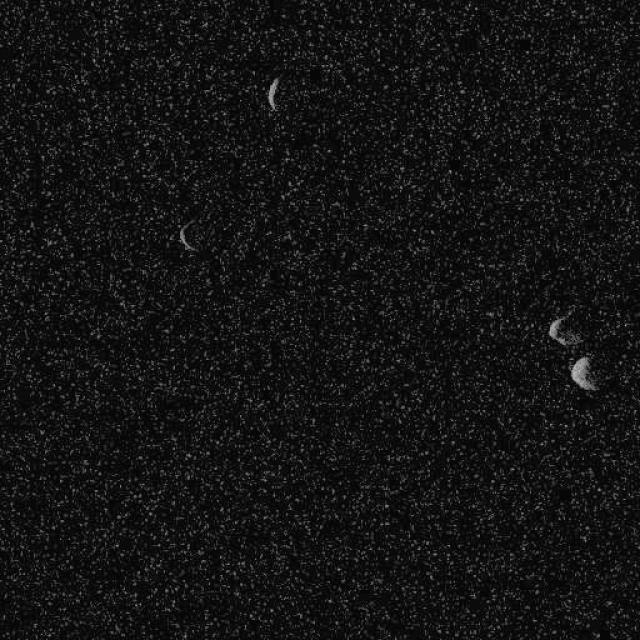D2: (546, 313, 582, 347), (568, 355, 598, 391), (178, 216, 200, 254), (265, 75, 280, 111)
